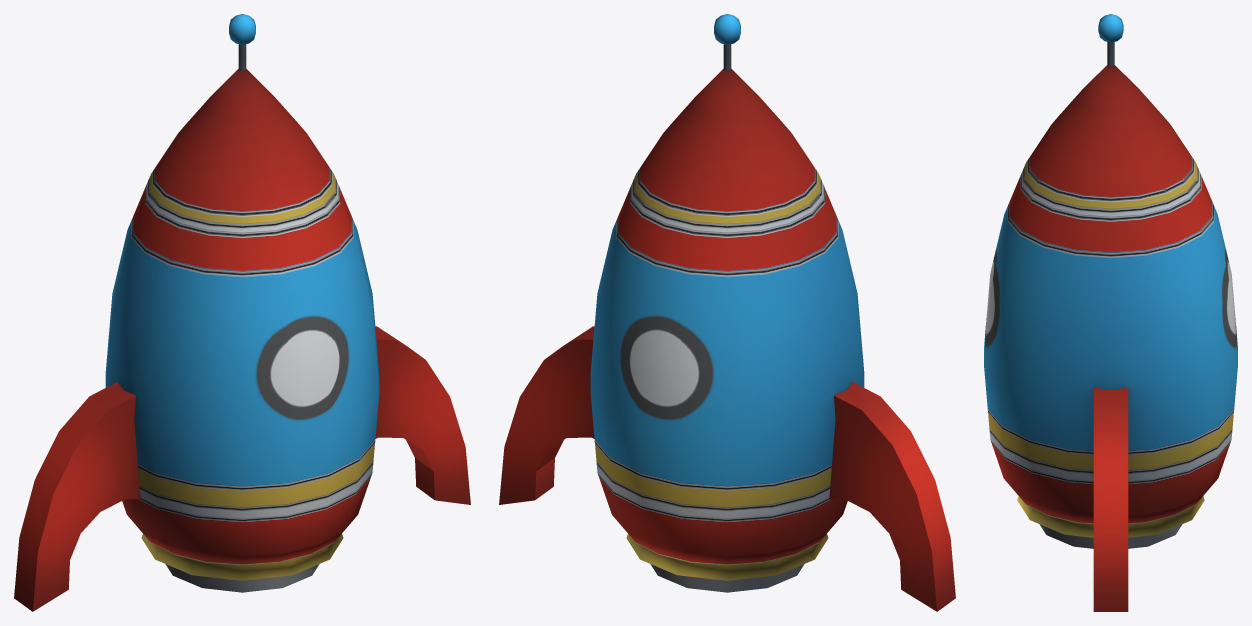
The picture shows the model from 3 angles, left to right: view 1: azimuth 30°, elevation 25°; view 2: azimuth 150°, elevation 25°; view 3: azimuth 270°, elevation 25°; orthographic projection. The views are drawn at different scales.
Visible parts, largest first — view 1: S001; view 2: S001; view 3: S001.
Boxes of the visible parts, x1=… form: S001: x1=14, y1=14, x2=470, y2=611; S001: x1=499, y1=14, x2=955, y2=611; S001: x1=984, y1=14, x2=1237, y2=611.
Bounding box in the file's own units: 34.01 × 40.29 × 18.4.
Materials: 1 (1 with a texture image).
